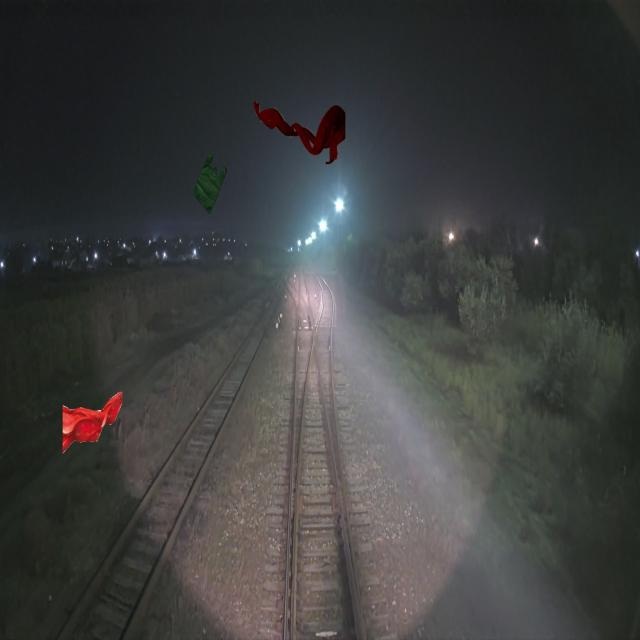balloon: (252, 100, 345, 164), (192, 151, 227, 215)
floating object: (63, 390, 122, 454)
